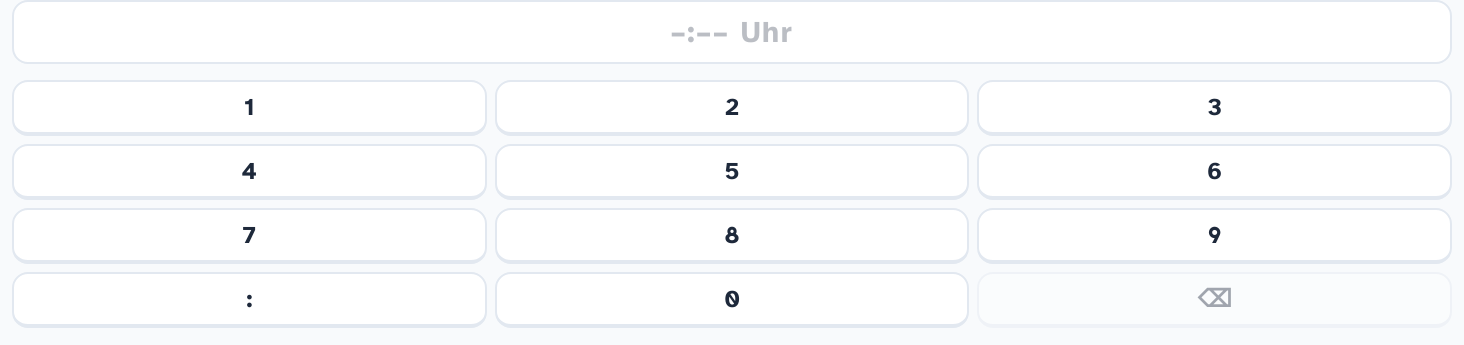
Test: NumberInput mit format uhrzeit (Zeit rechnen) › 8 : 3 9 → richtig
The width and height of the screenshot is (1464, 345).
What coordinates should you click on to do the following:
click the button "8"
I would click on:
 (732, 236)
Its box is [495,208,969,264].
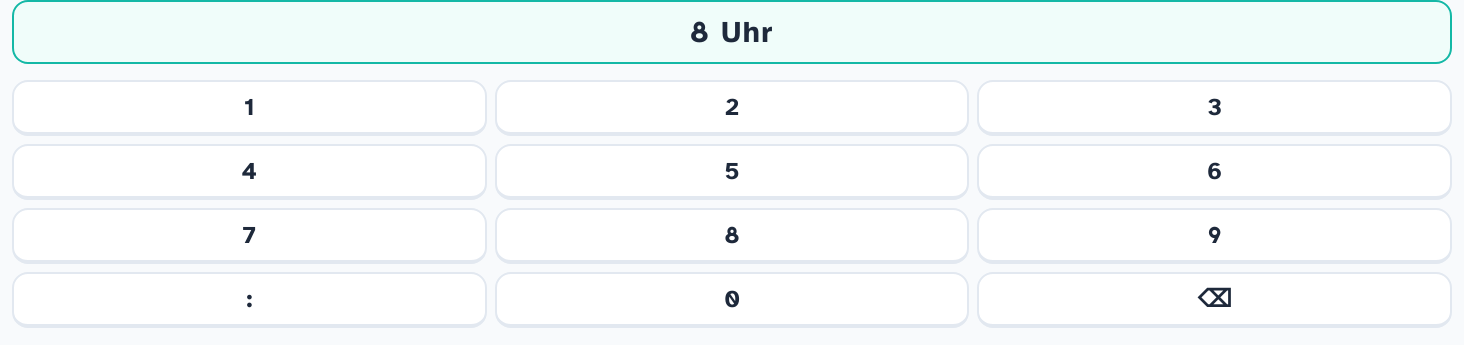
What coordinates should you click on to do the following:
click the button named "Doppelpunkt"
I would click on:
 (249, 300)
Its box is [12,272,487,328].
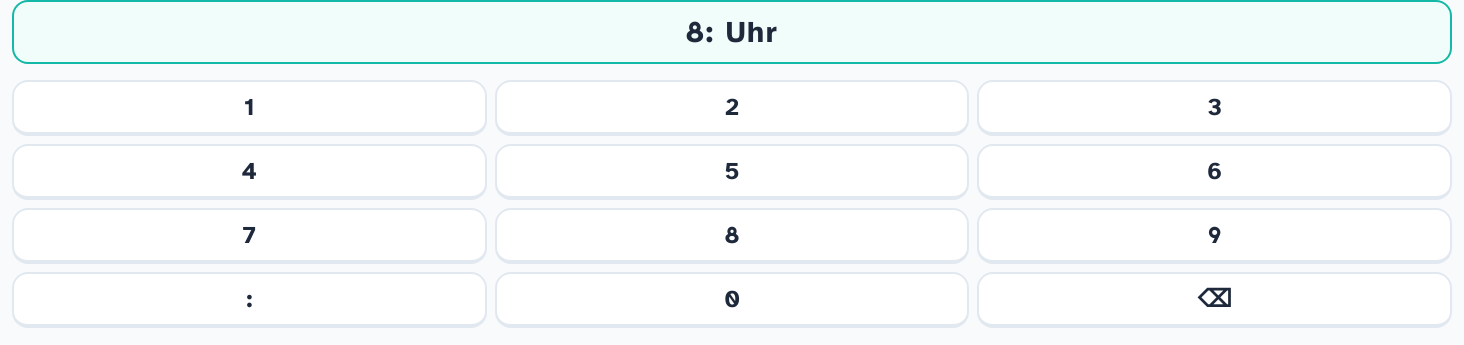
What coordinates should you click on to do the following:
click the button "3"
I would click on:
 (1215, 108)
Its box is [977,80,1452,136].
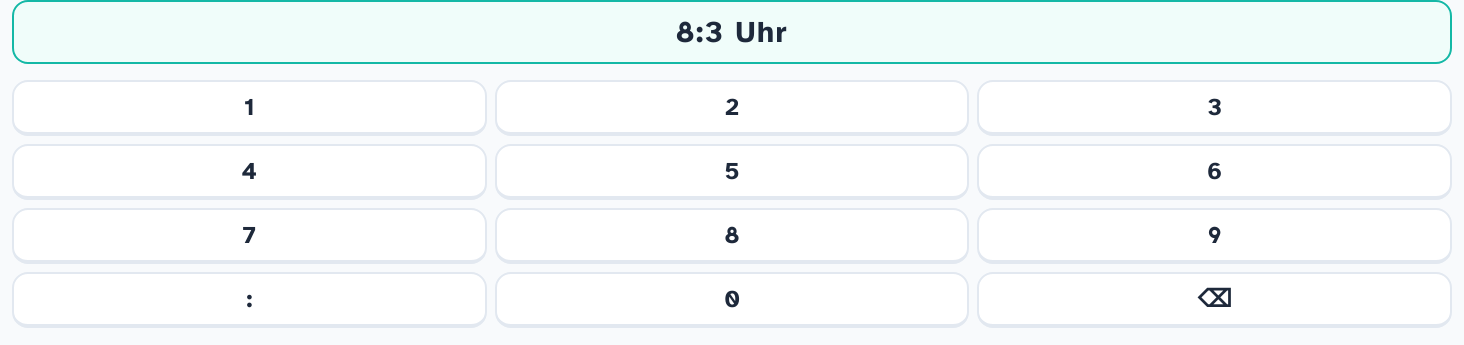
What coordinates should you click on to do the following:
click the button "9"
I would click on:
 (1215, 236)
Its box is [977,208,1452,264].
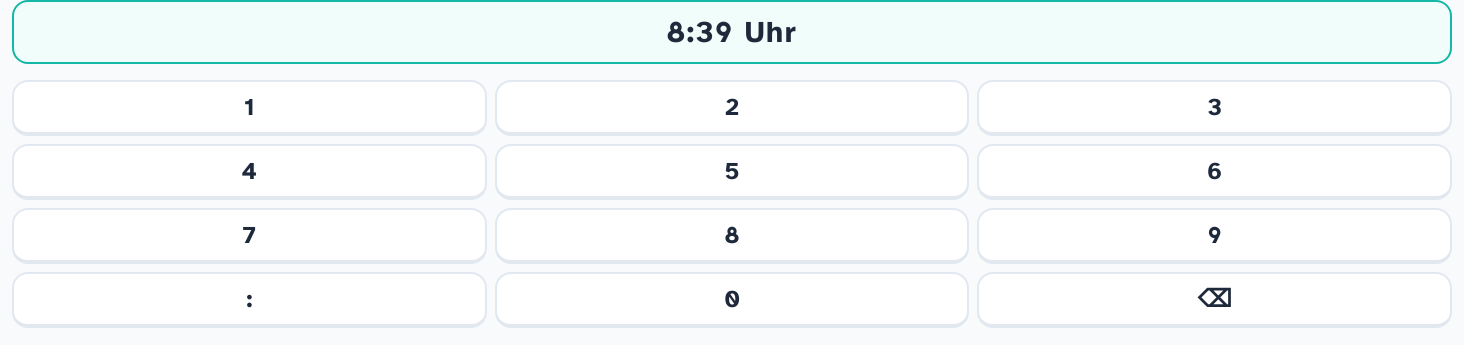
Now the text named "Deine Antwort: 8:39 Uhr" is shown, box [12,0,1452,64]
